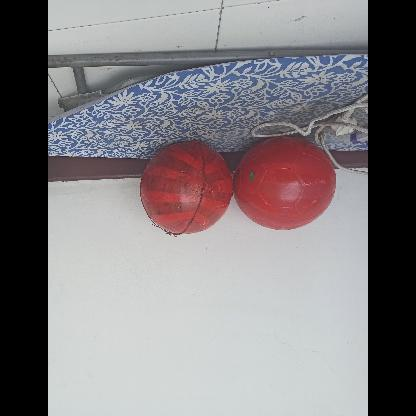red_ball: (234, 134, 334, 235), (140, 144, 230, 235)
